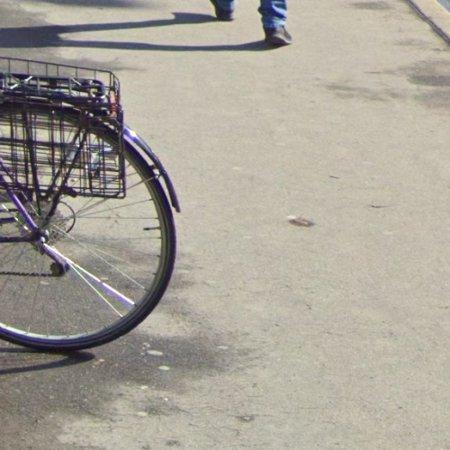bicycles: (0, 57, 180, 351)
